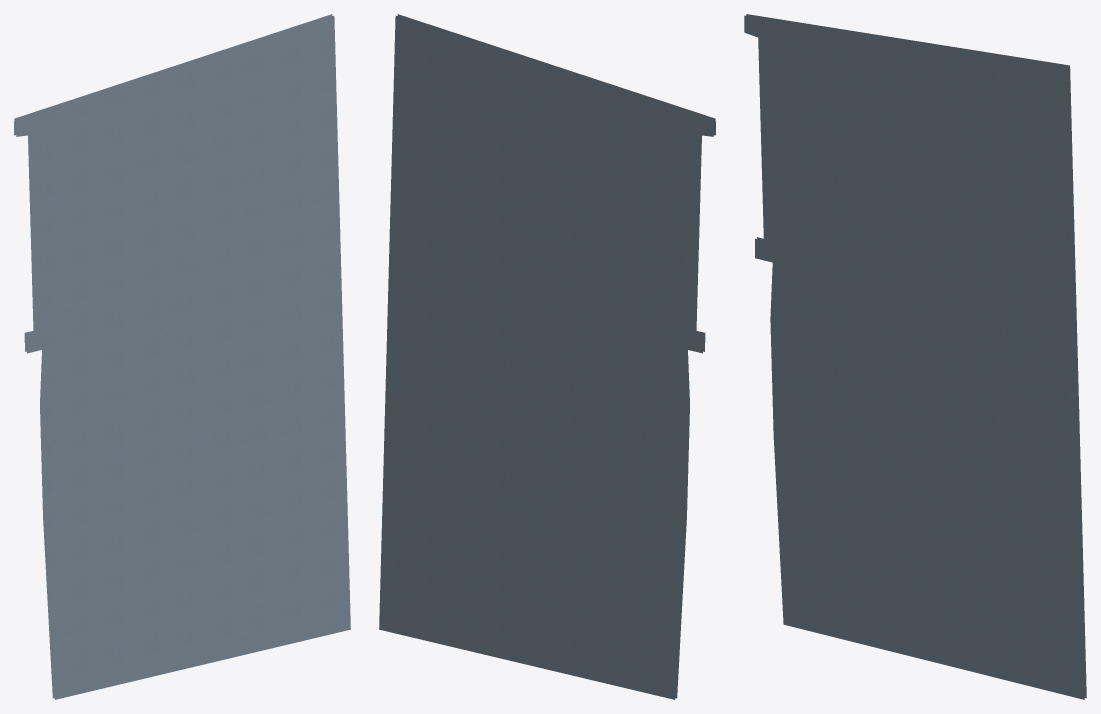
The model's file is floor_4.obj.
3 renders of one model, left to right at view 1: azimuth 30°, elevation 25°; view 2: azimuth 150°, elevation 25°; view 3: azimuth 330°, elevation 25°, orthographic.
Parts seen in each view (by area): view 1: floor_4; view 2: floor_4; view 3: floor_4.
Boxes of the visible parts, x1,y1,x2,y2 form: floor_4: (14, 14, 350, 699); floor_4: (379, 14, 715, 699); floor_4: (744, 14, 1086, 699).
Size of the model in its own units: 9.43 by 16.65 by 0.1.
Materials: 1 (1 with a texture image).
